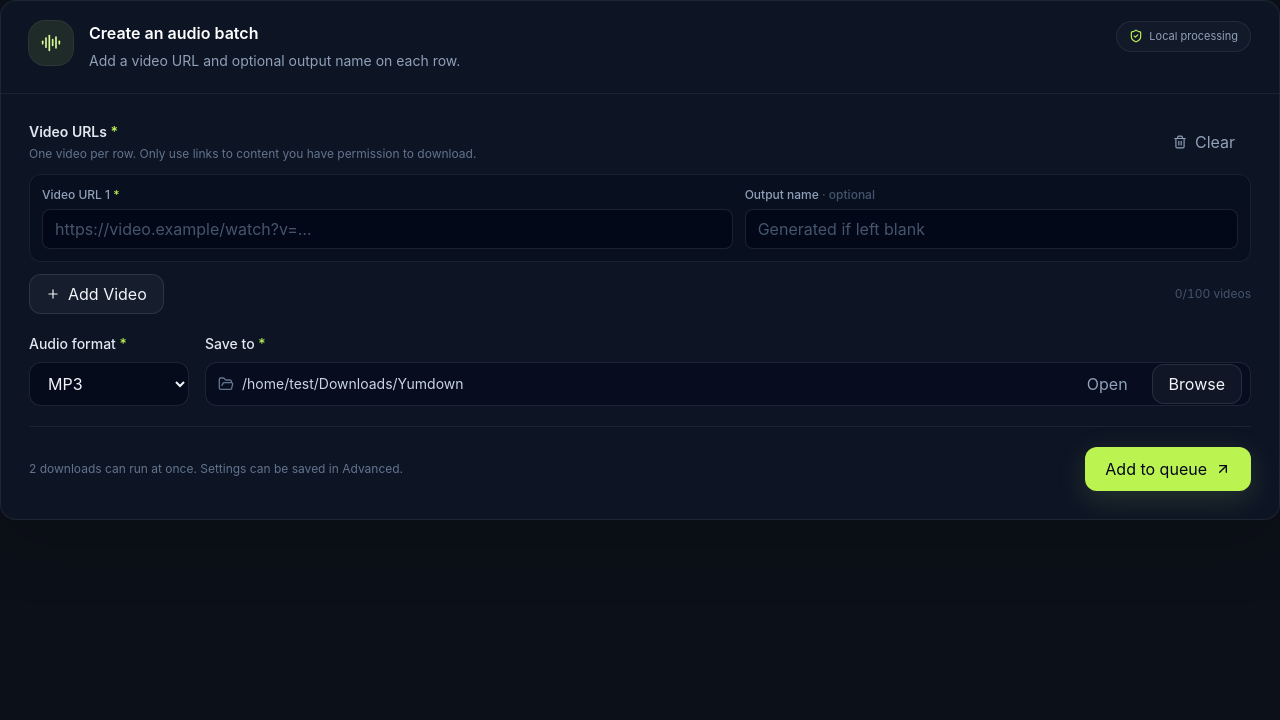
Test case: DownloadForm › adds rows and Clear resets the list to one empty row
Click the button "Add Video".
click(96, 294)  # box left=29, top=274, right=164, bottom=314
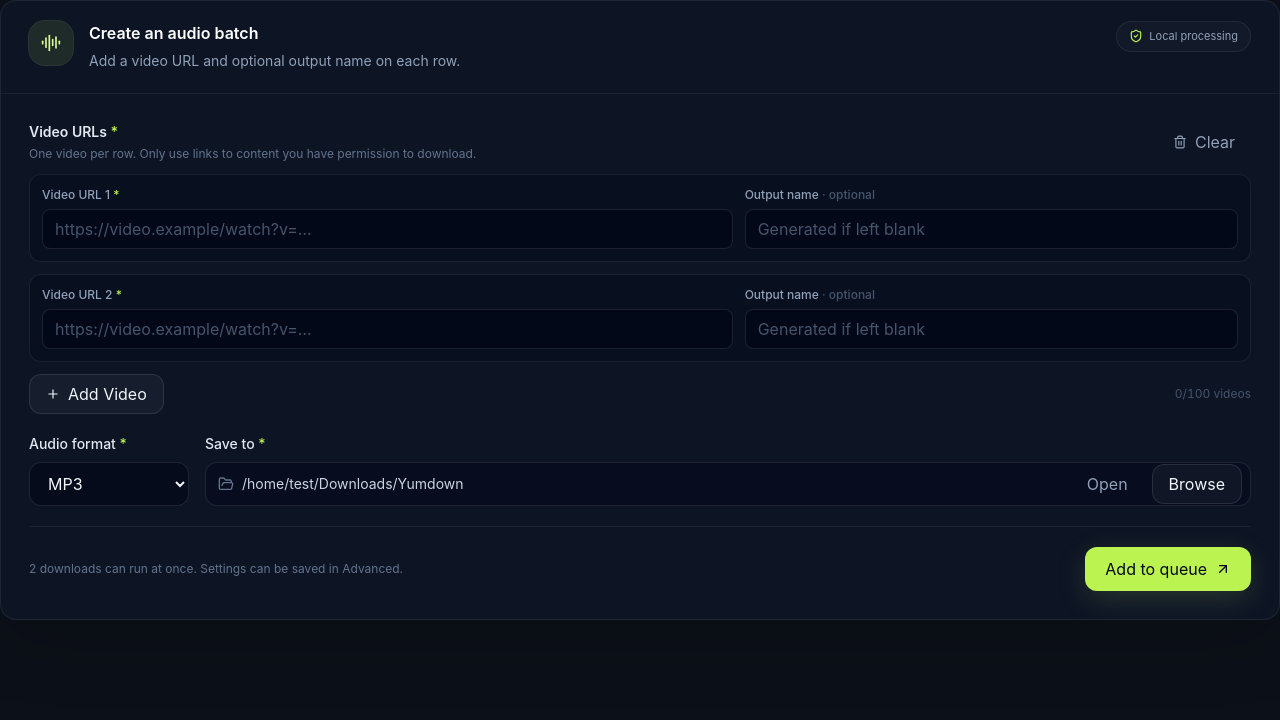
Expected: the number of fields labelled "Video URL 1 *" is 2
Expected: the number of fields labelled "Output name · optional" is 2, left=745, top=209, right=1238, bottom=249; left=745, top=309, right=1238, bottom=349
Type "https://video.example/watch?id=1" into the field labelled "Video URL 1 *".
click(387, 229); type("https://video.example/watch?id=1")  # box left=42, top=209, right=733, bottom=249
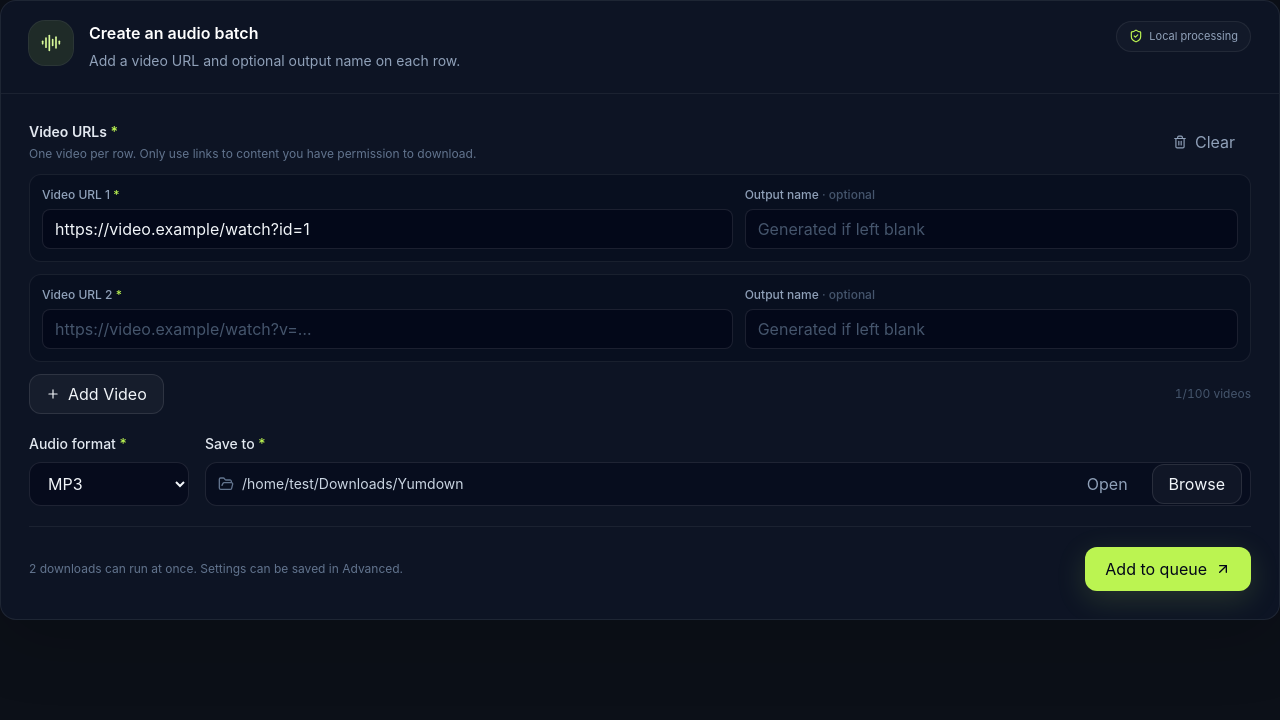
Type "first" into the 1st field labelled "Output name · optional".
click(991, 229); type("first")  # box left=745, top=209, right=1238, bottom=249
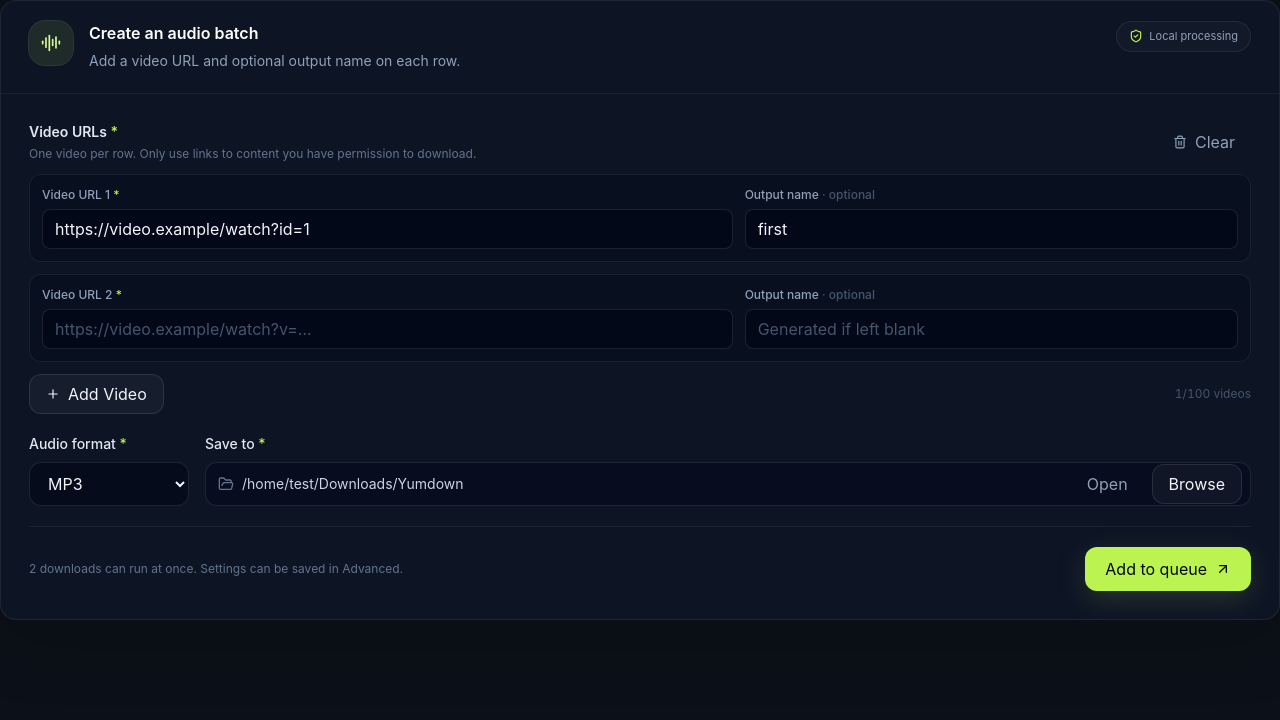
Click the button with aria-label "Clear all video rows".
click(1204, 142)  # box left=1157, top=122, right=1251, bottom=162
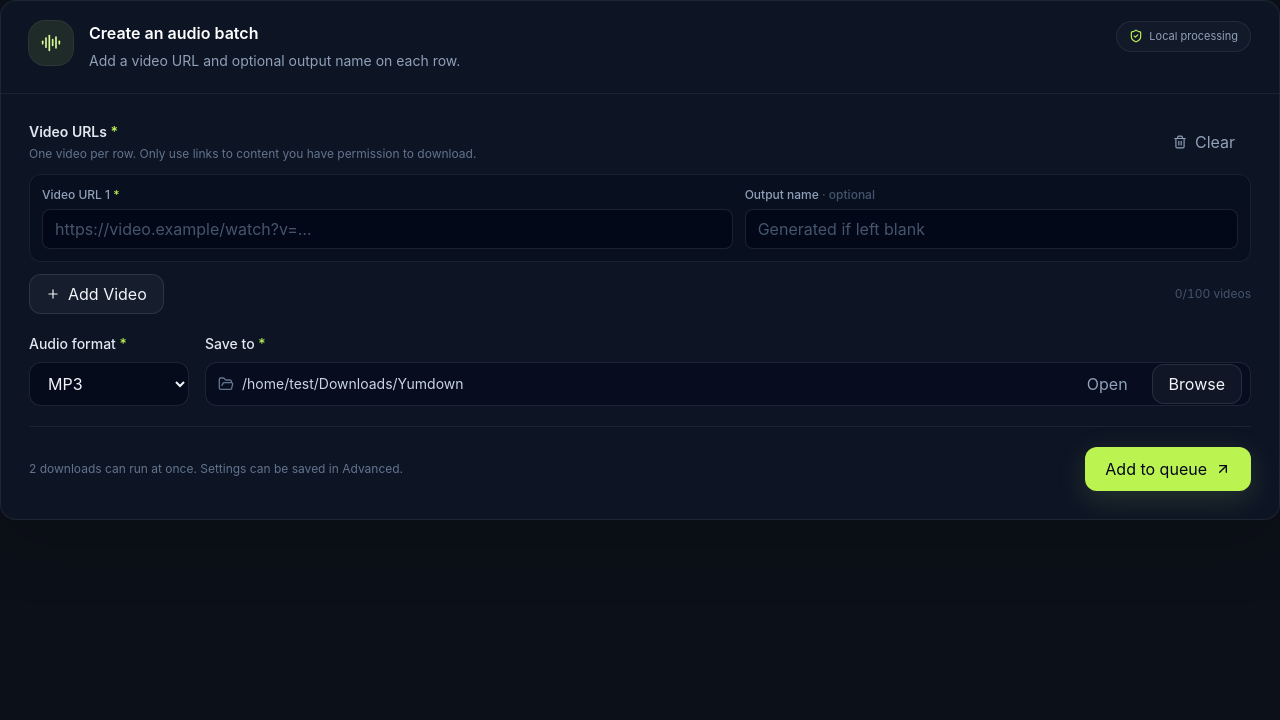
Expected: the number of fields labelled "Video URL 1 *" is 1, left=42, top=209, right=733, bottom=249
Expected: the number of fields labelled "Output name · optional" is 1, left=745, top=209, right=1238, bottom=249
Expected: the field labelled "Video URL 1 *" is empty, left=42, top=209, right=733, bottom=249
